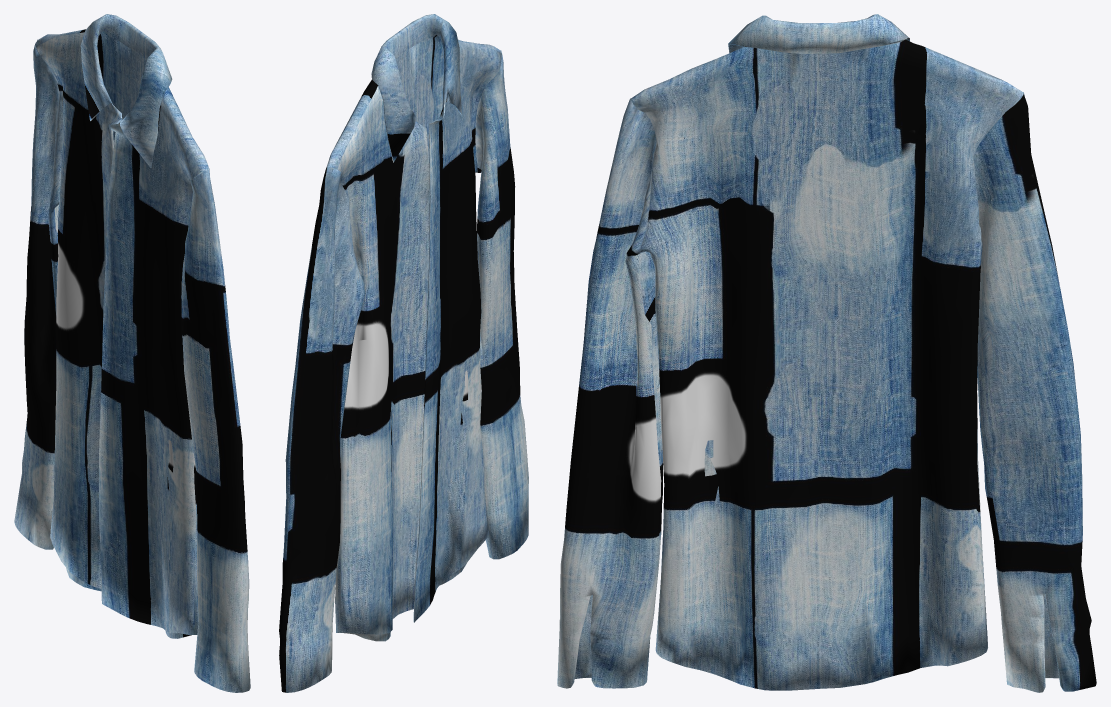
Rendered from rod-shirt02.glb.
3 views of the same model, side by side, from view 1: azimuth 30°, elevation 25°; view 2: azimuth 150°, elevation 25°; view 3: azimuth 270°, elevation 25° (orthographic). The views are drawn at different scales.
Parts seen in each view (by area): view 1: shirt02.001; view 2: shirt02.001; view 3: shirt02.001.
Boxes of the visible parts, box(x1,y1,x2,y2) form: shirt02.001: box(14, 14, 250, 692); shirt02.001: box(279, 14, 528, 692); shirt02.001: box(557, 14, 1096, 692).
Bounding box in the file's own units: 0.0682 × 0.7834 × 0.5691.
Materials: 1 (1 with a texture image).
